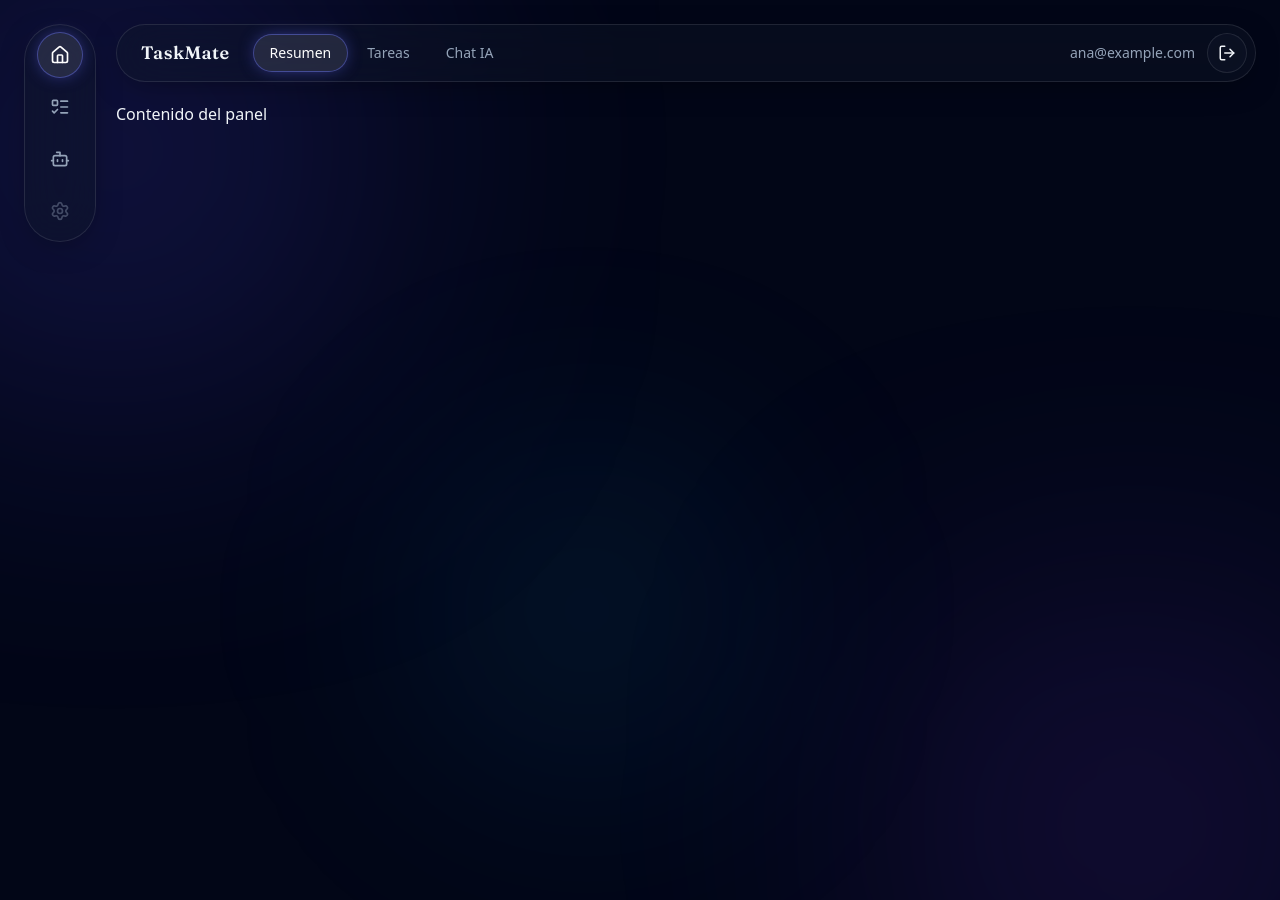
Test: AppShell › abre el chat con IA desde la barra superior
Click the link "Chat IA": (470, 52) x1=446 y1=43 x2=494 y2=62
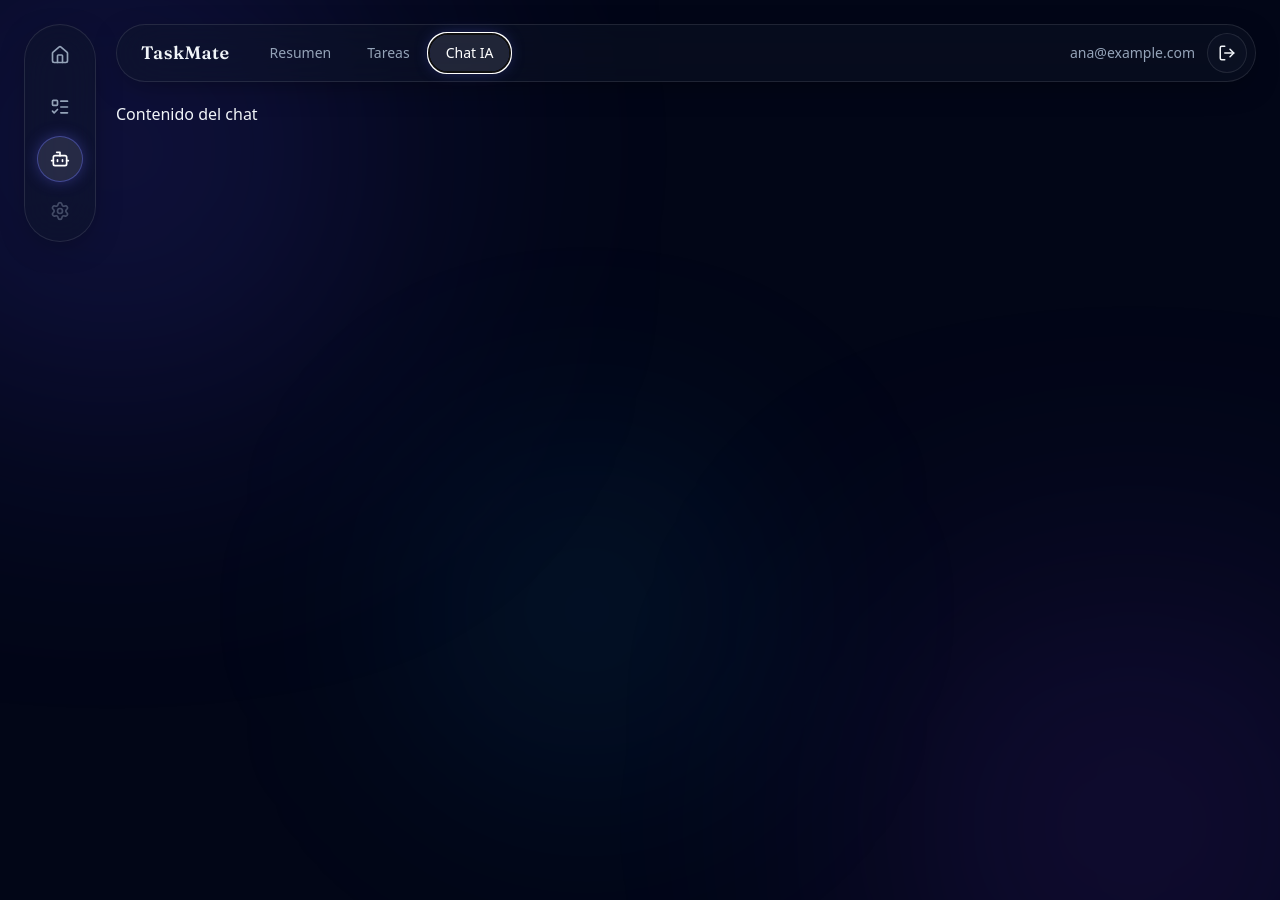
Check: the text "Contenido del chat" is shown, box x1=116 y1=103 x2=258 y2=125
